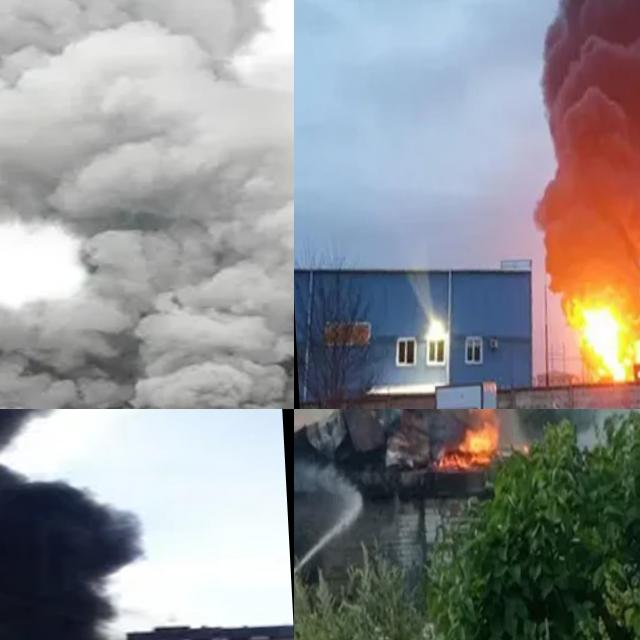smoke: (0, 0, 294, 409), (532, 0, 640, 347), (0, 409, 158, 640), (294, 409, 570, 476)
